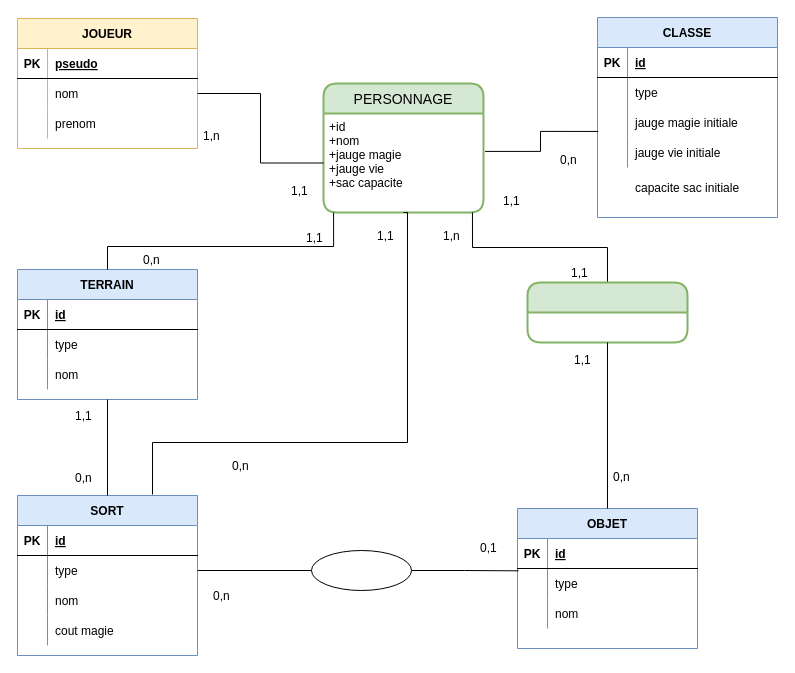
This 795x673 diagram has some shape labels left out. Each missing label, with the centre of its shape:
"EQUIPEMENT" goes at pixel 607 312.
"Est lié à" goes at pixel 361 570.
